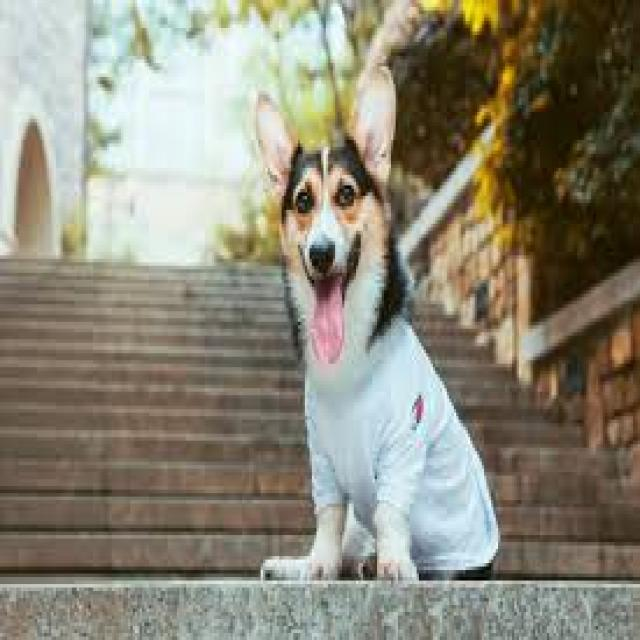CORGI: (235, 60, 504, 600)
